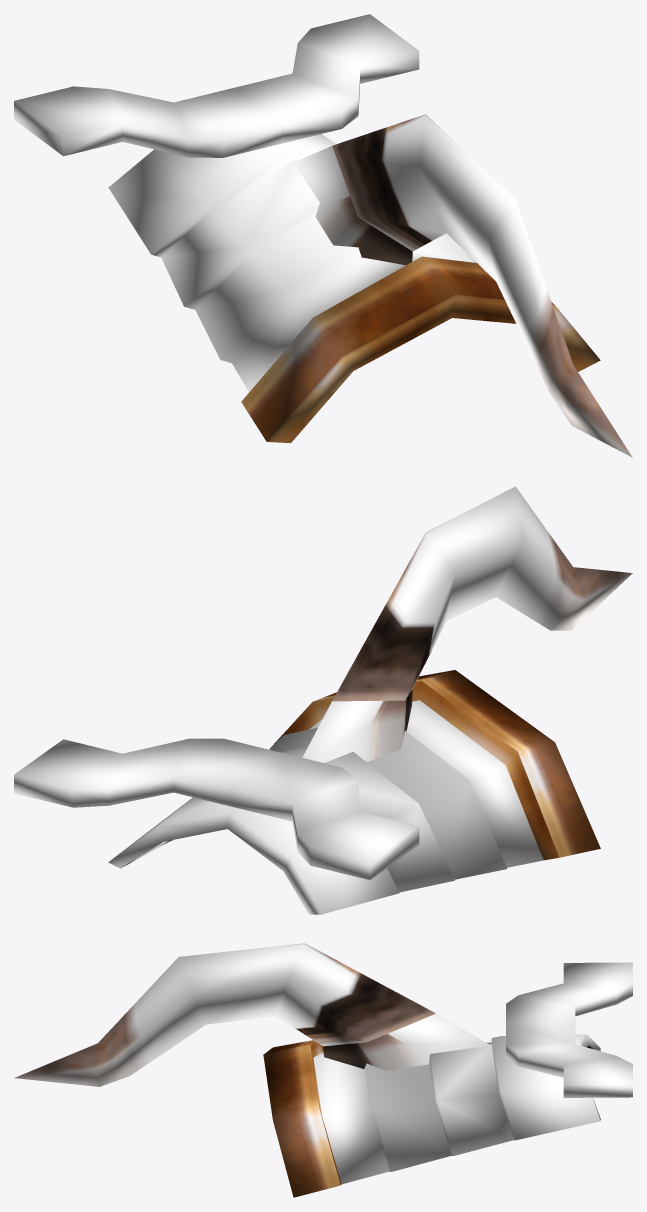
File: tribalgrappler02l.obj
The picture shows the model from 3 angles, top to bottom: view 1: azimuth 30°, elevation 25°; view 2: azimuth 150°, elevation 25°; view 3: azimuth 270°, elevation 25°; orthographic projection. The views are drawn at different scales.
Parts seen in each view (by area): view 1: MDL_w2dkn02_bod00; view 2: MDL_w2dkn02_bod00; view 3: MDL_w2dkn02_bod00.
Part boxes in pixels (bbox=[...]): MDL_w2dkn02_bod00: bbox=[14, 14, 632, 457]; MDL_w2dkn02_bod00: bbox=[14, 486, 632, 914]; MDL_w2dkn02_bod00: bbox=[15, 943, 632, 1197].
Bounding box in the file's own units: 0.2498 × 0.1941 × 0.536.
